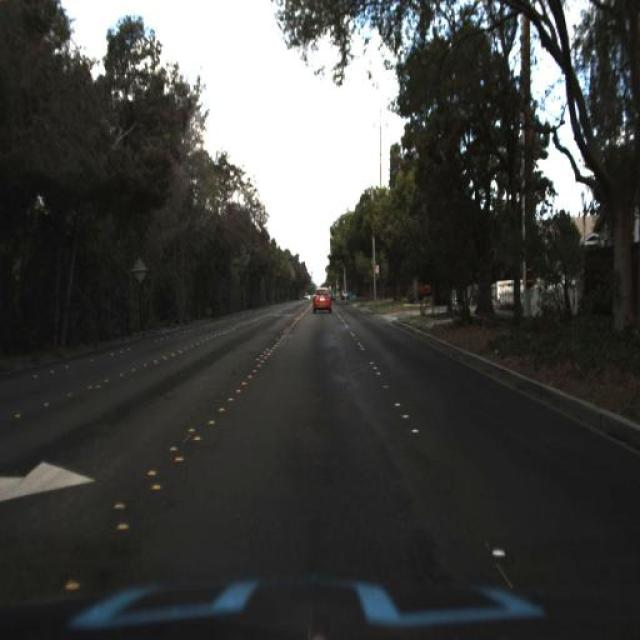car: (309, 272, 336, 317)
